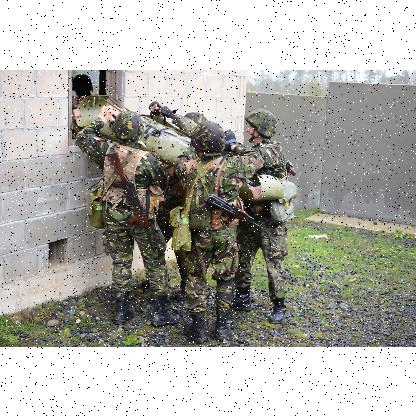gun: (103, 147, 161, 257), (198, 196, 264, 226), (286, 161, 294, 175)
